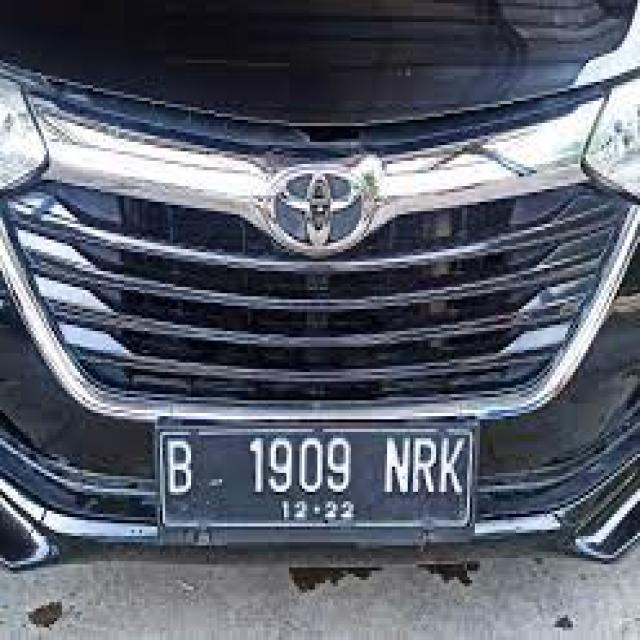license-plat: (154, 408, 477, 544)
